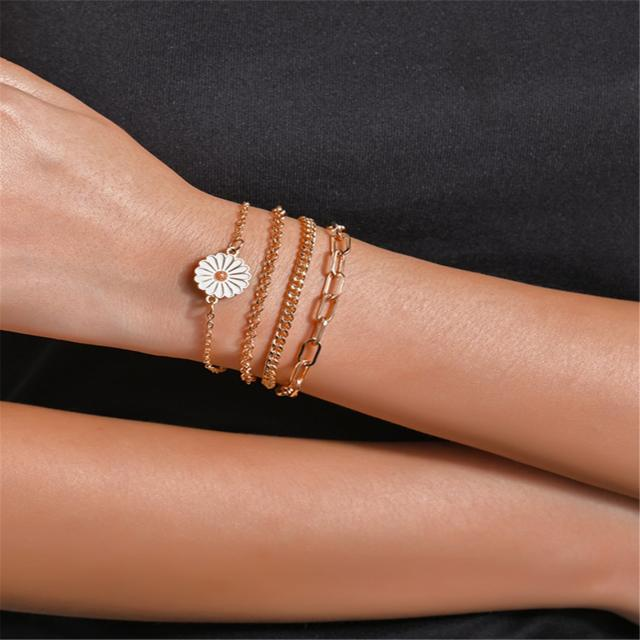bracelet: (136, 174, 400, 429)
